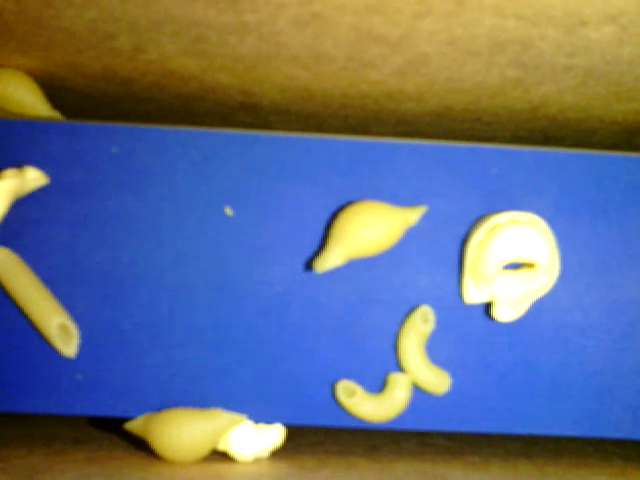elbow: (395, 304, 448, 399), (333, 374, 413, 421)
penne: (1, 246, 81, 363)
shell: (307, 201, 430, 277), (119, 406, 245, 462), (1, 66, 72, 121)
tortellini: (463, 207, 562, 325)
